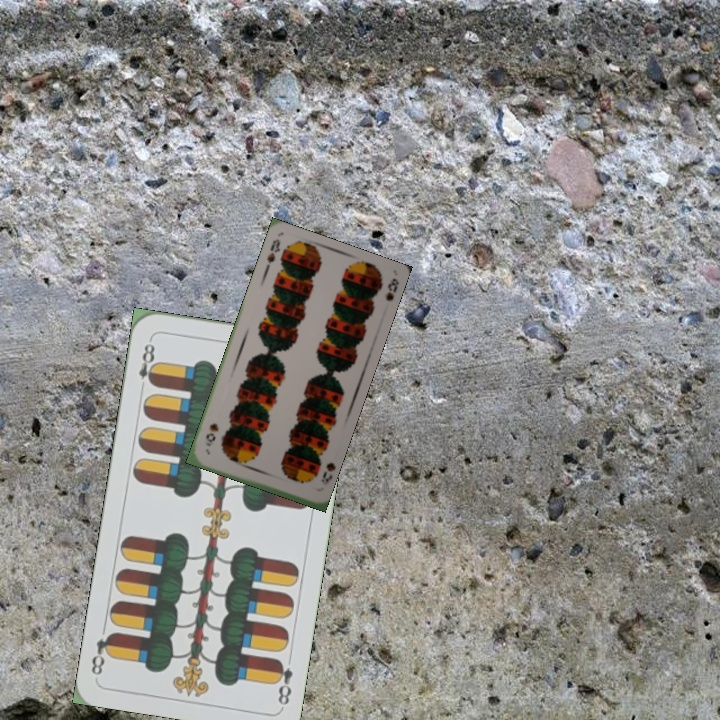E8: (134, 335, 160, 394), (270, 655, 295, 708)
S8: (261, 235, 283, 274), (317, 458, 337, 487)
